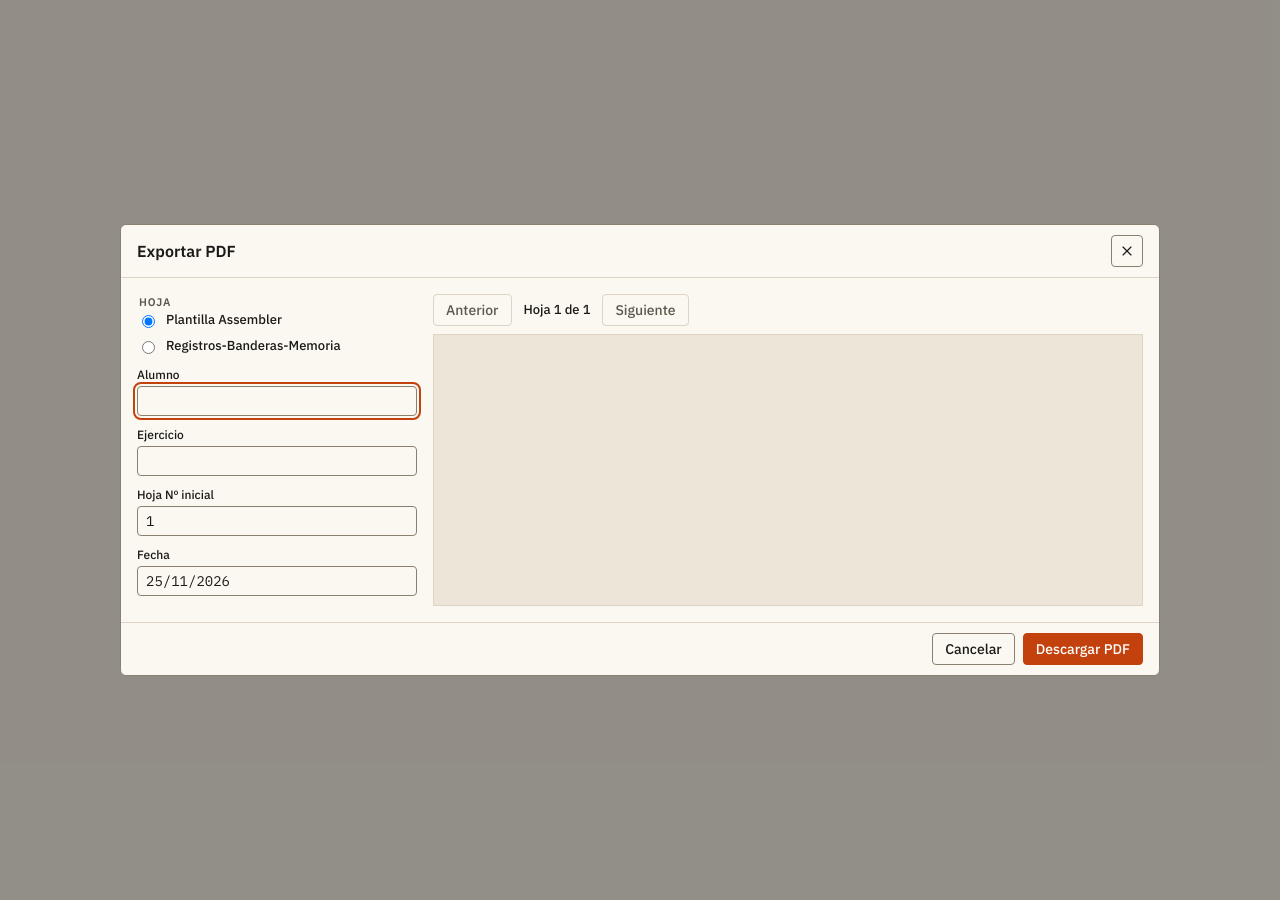
Test: ExportDialog › si el guardado falla muestra el error y el diálogo sigue abierto
The width and height of the screenshot is (1280, 900).
Click the button "Descargar PDF" at [1083, 649], box [1023, 633, 1143, 665]
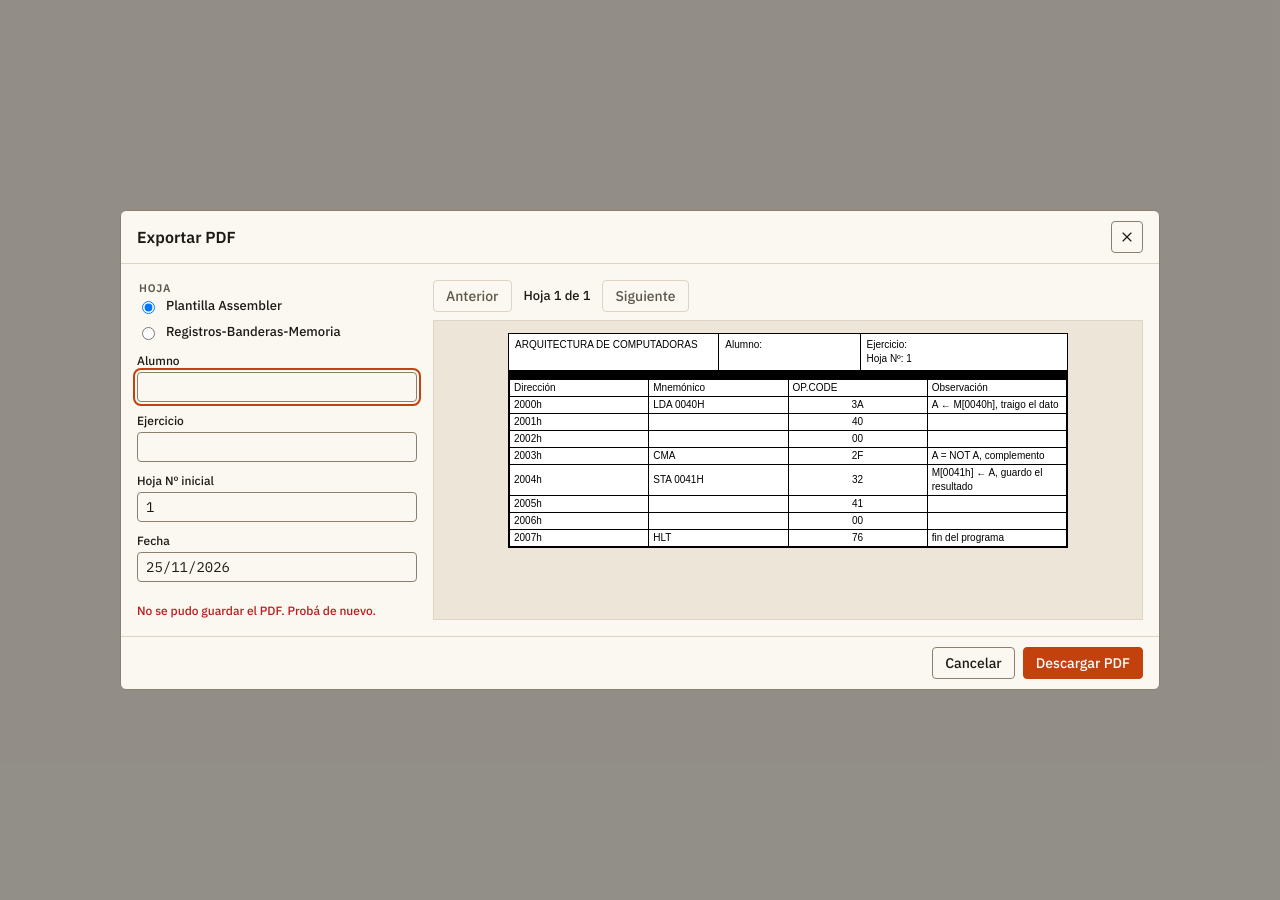
Expected: the message shows "No se pudo guardar el PDF", [137, 603, 376, 618]
